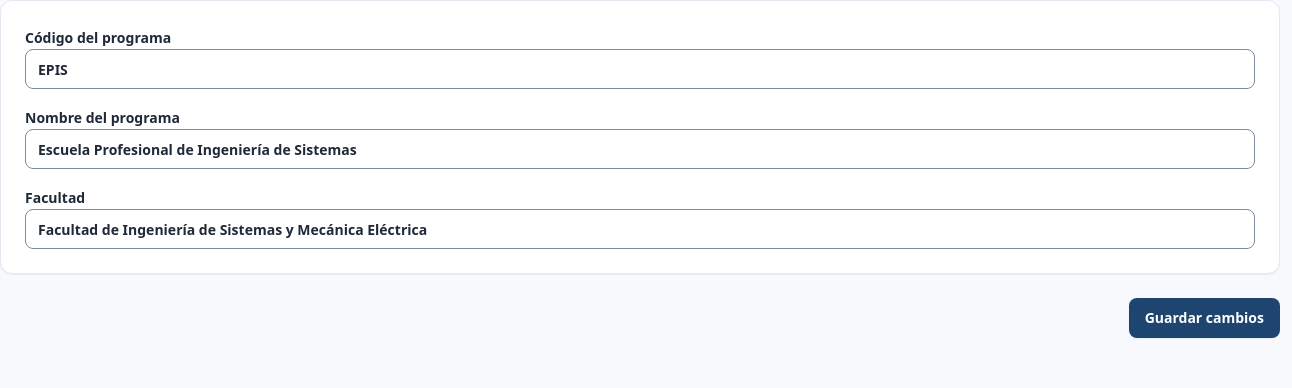
Scenario: ProgramForm component (HU-009, T-009-17, CA1, CA2) › handles 409 conflict and focuses code input field
The image size is (1292, 388).
Replace the text in the field labelled "Código del programa" with "DUPLICADO" at (640, 69), box [25, 49, 1255, 89]
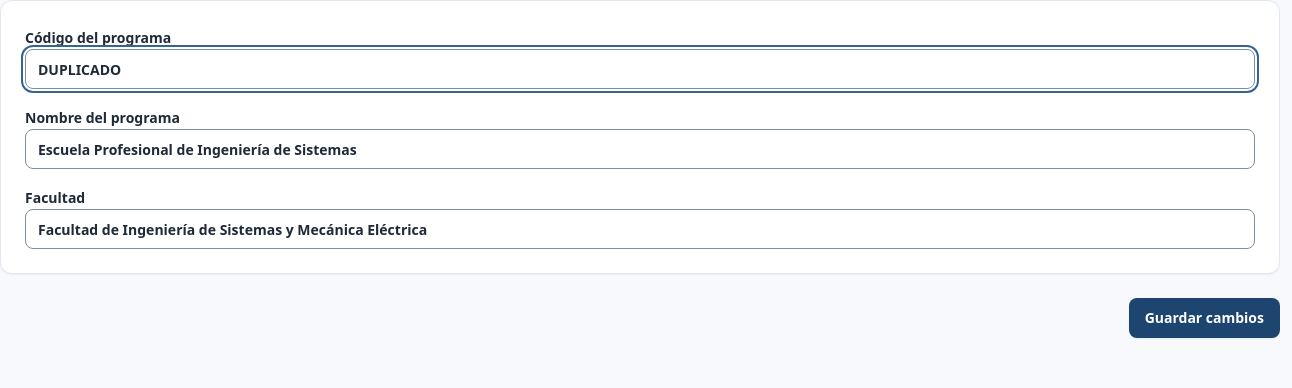
Click the button "Guardar cambios".
click(1204, 318)  # box [1129, 298, 1280, 338]
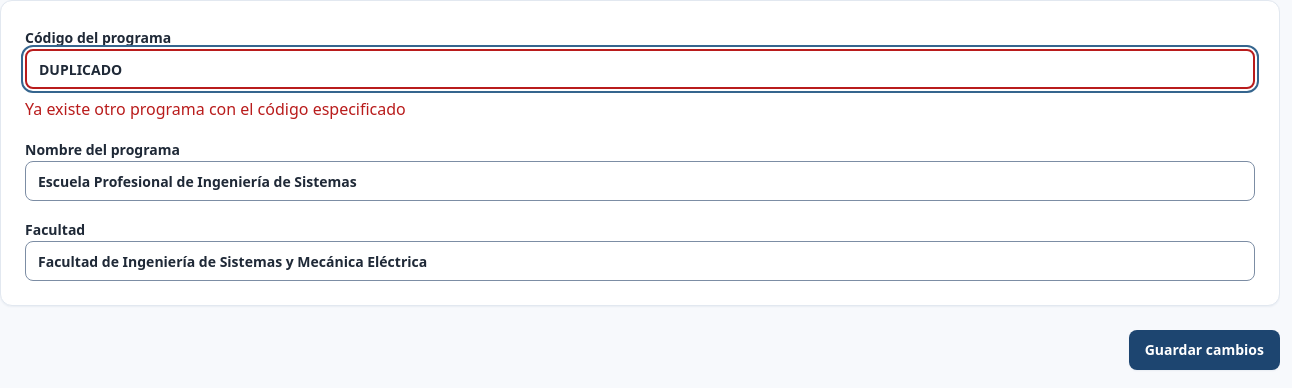
Now the text "Ya existe otro programa con el código especificado" is shown, box [25, 98, 406, 120]
